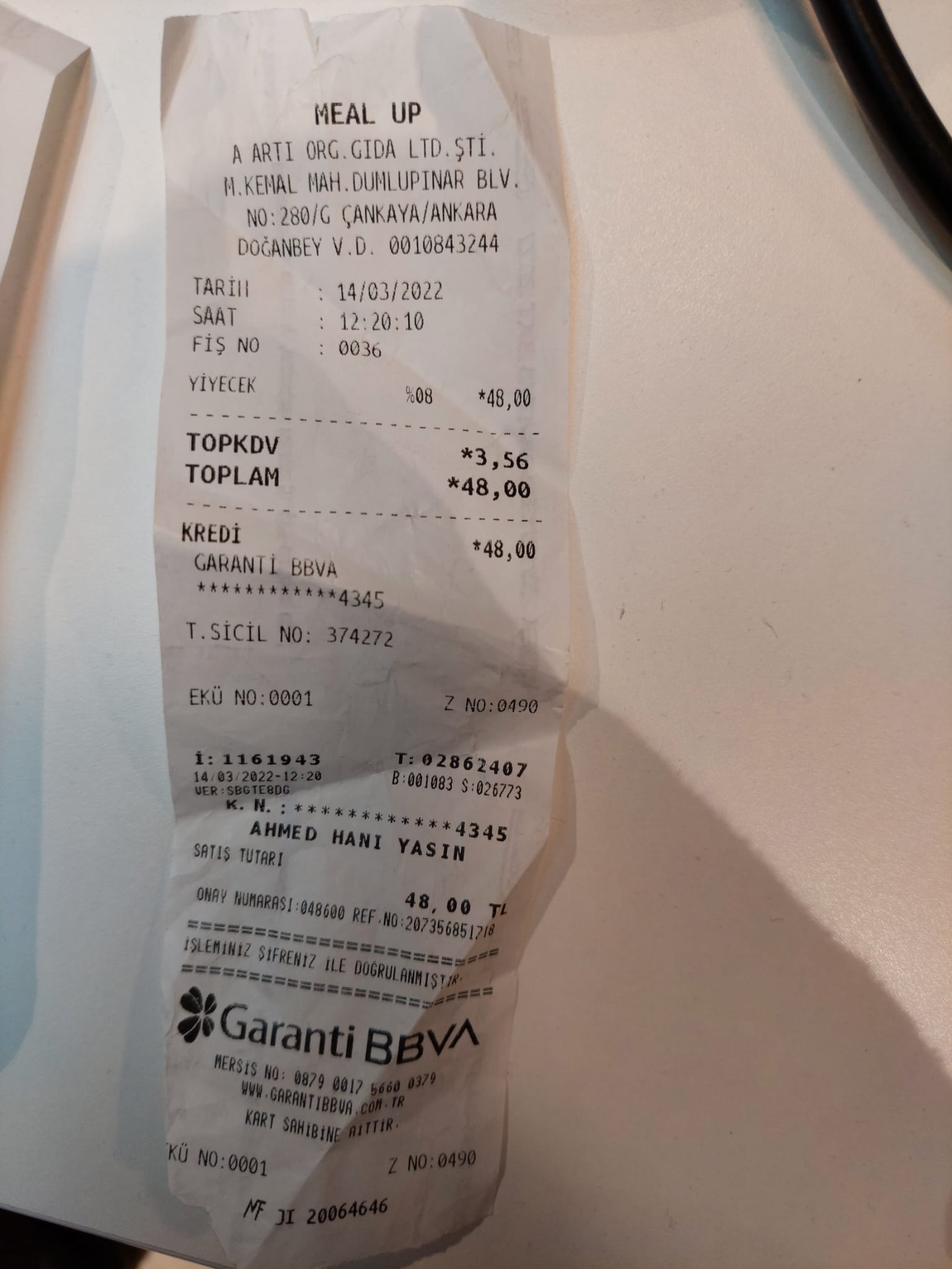date: (461, 468, 535, 510)
price: (331, 276, 450, 307)
workplace: (218, 88, 529, 231)
